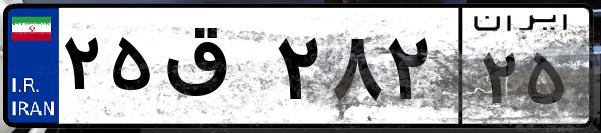2: (270, 28, 330, 110), (385, 28, 445, 110), (57, 26, 110, 100), (475, 38, 525, 113)
5: (525, 38, 570, 115), (110, 28, 158, 98)
8: (330, 28, 385, 110)
ق: (158, 20, 270, 120)
